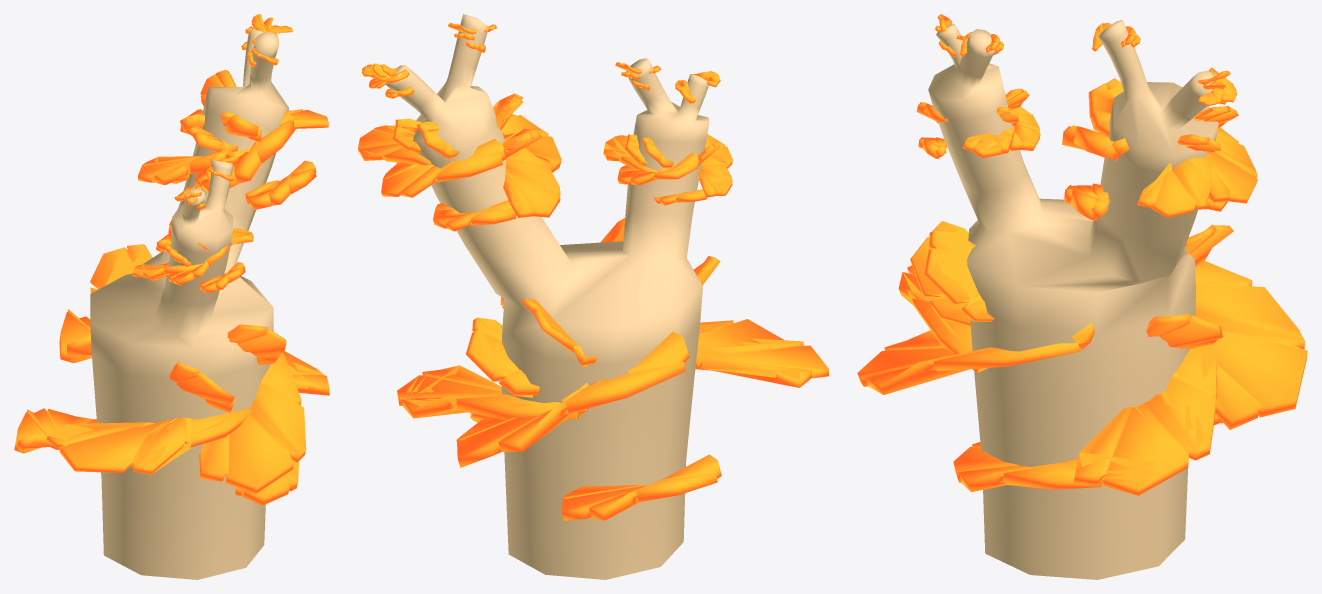
File: magmastuff_frondplant.fbx
3 renders of one model, left to right at view 1: azimuth 30°, elevation 25°; view 2: azimuth 150°, elevation 25°; view 3: azimuth 270°, elevation 25°, orthographic. The views are drawn at different scales.
Visible parts, largest first — view 1: frondplant; view 2: frondplant; view 3: frondplant.
Part boxes in pixels (<box>): frondplant: <box>14,14,329,579</box>; frondplant: <box>358,14,828,579</box>; frondplant: <box>857,14,1307,579</box>.
Size of the model in its own units: 116 by 153 by 108.
